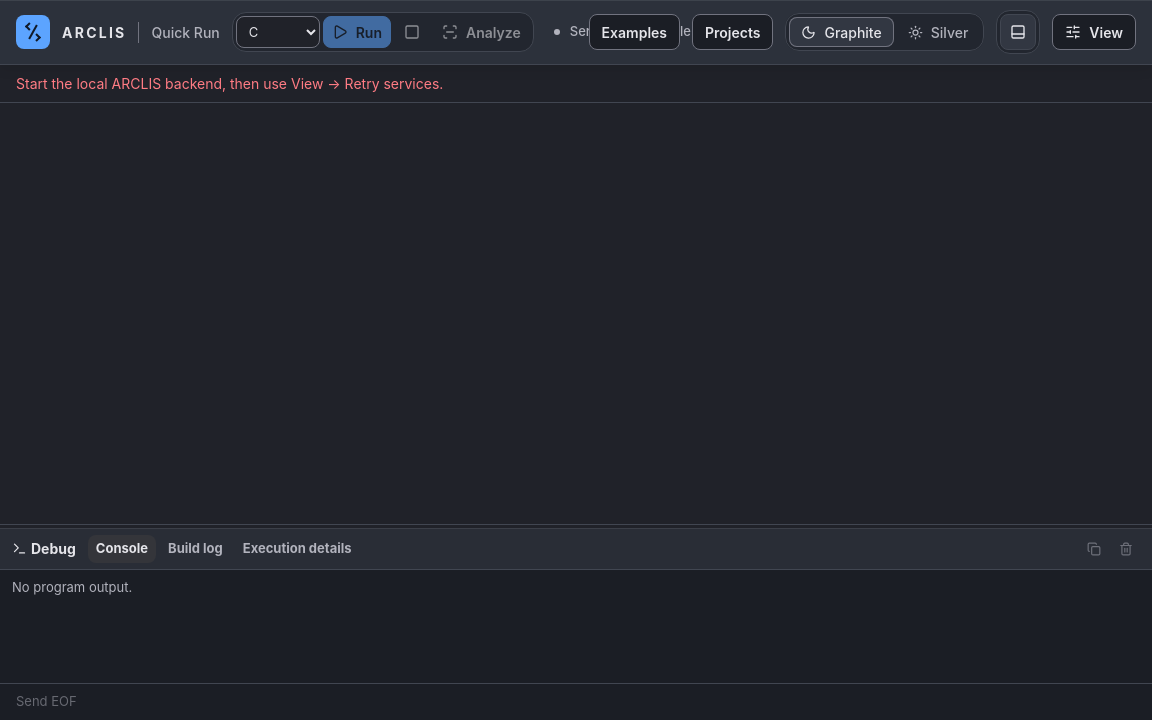
the component preview › announces a fallback when clipboard permission is denied
Click the button "View": (1094, 32) left=1052, top=14, right=1136, bottom=50
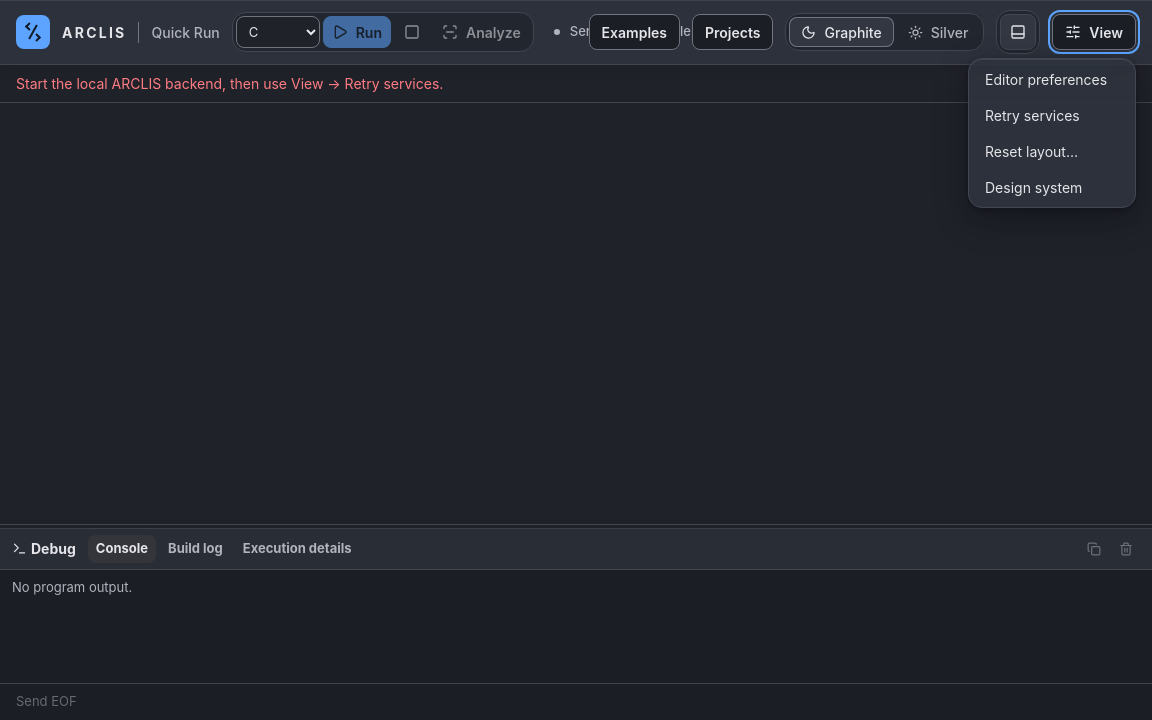
Click the button "Design system": (1052, 187) left=973, top=171, right=1131, bottom=203
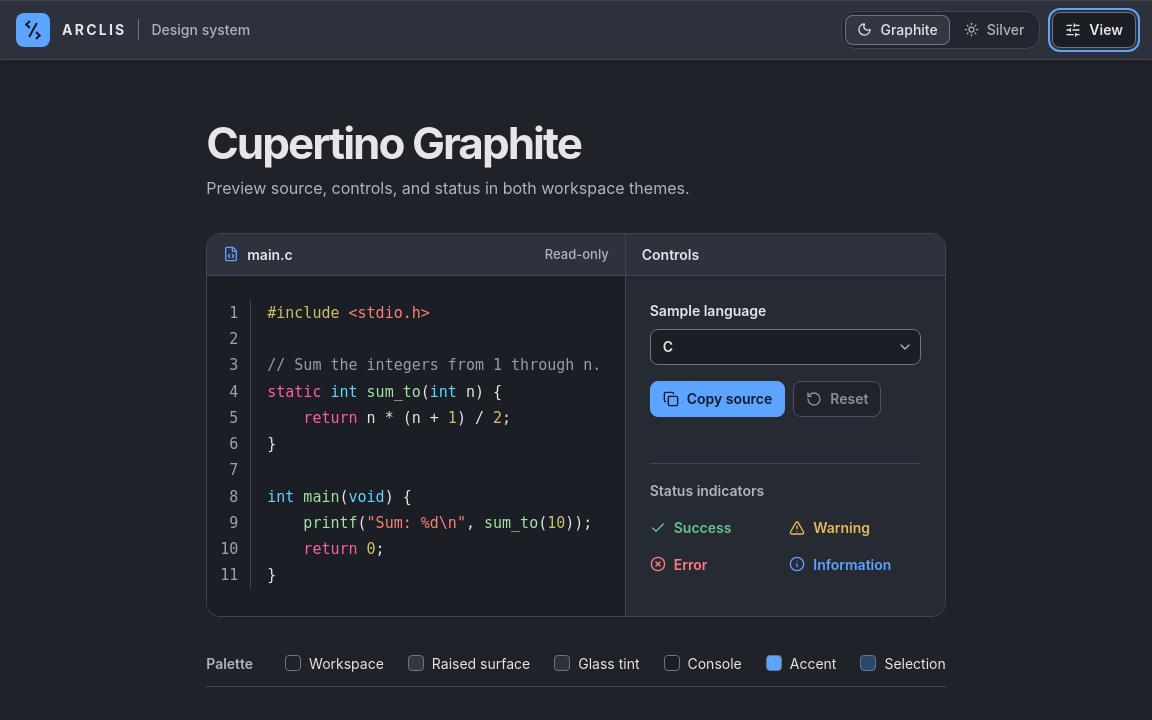
Click the button "Copy source": (718, 399) left=650, top=381, right=785, bottom=417
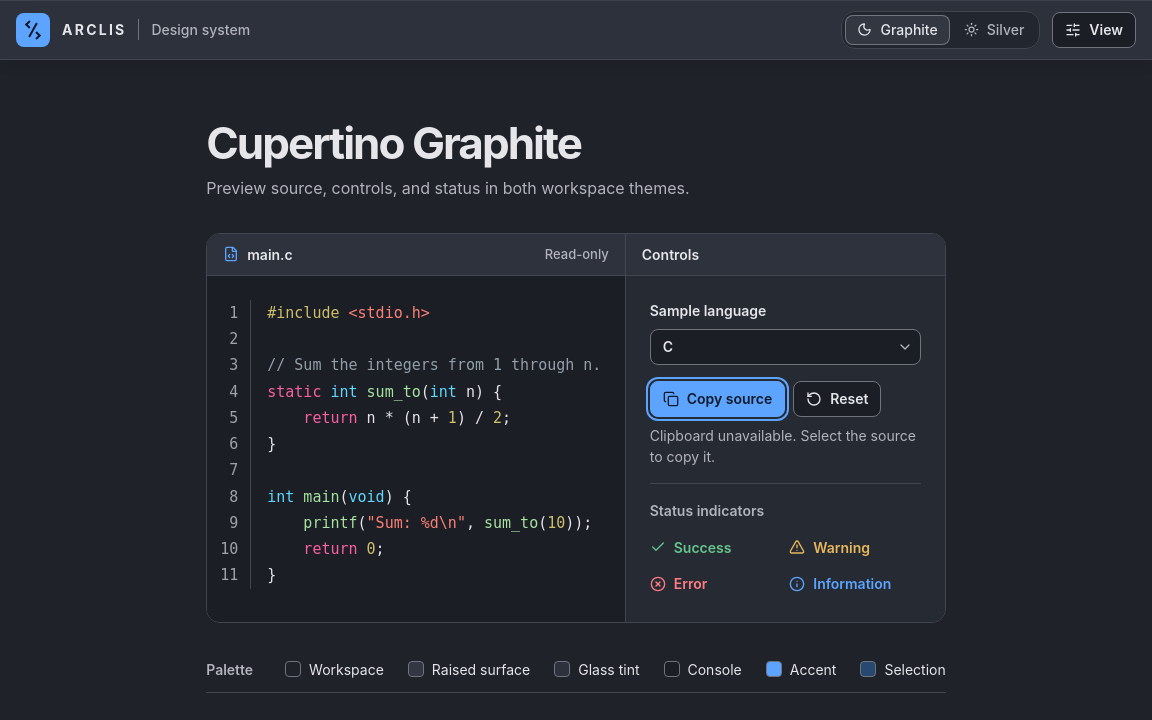
Now the message shows "Clipboard unavailable.", box left=650, top=427, right=916, bottom=465
